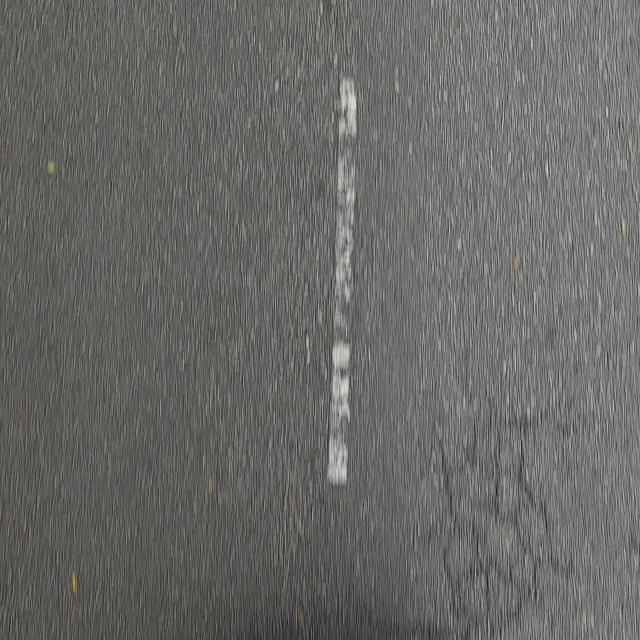Retak-Buaya: (439, 407, 551, 639)
